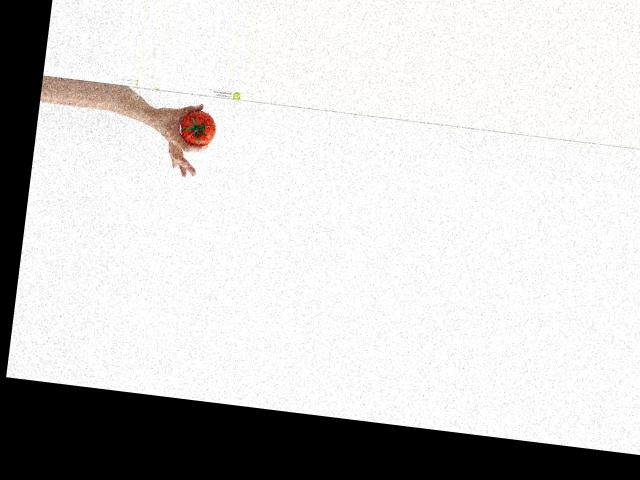tomato: (178, 108, 217, 147)
